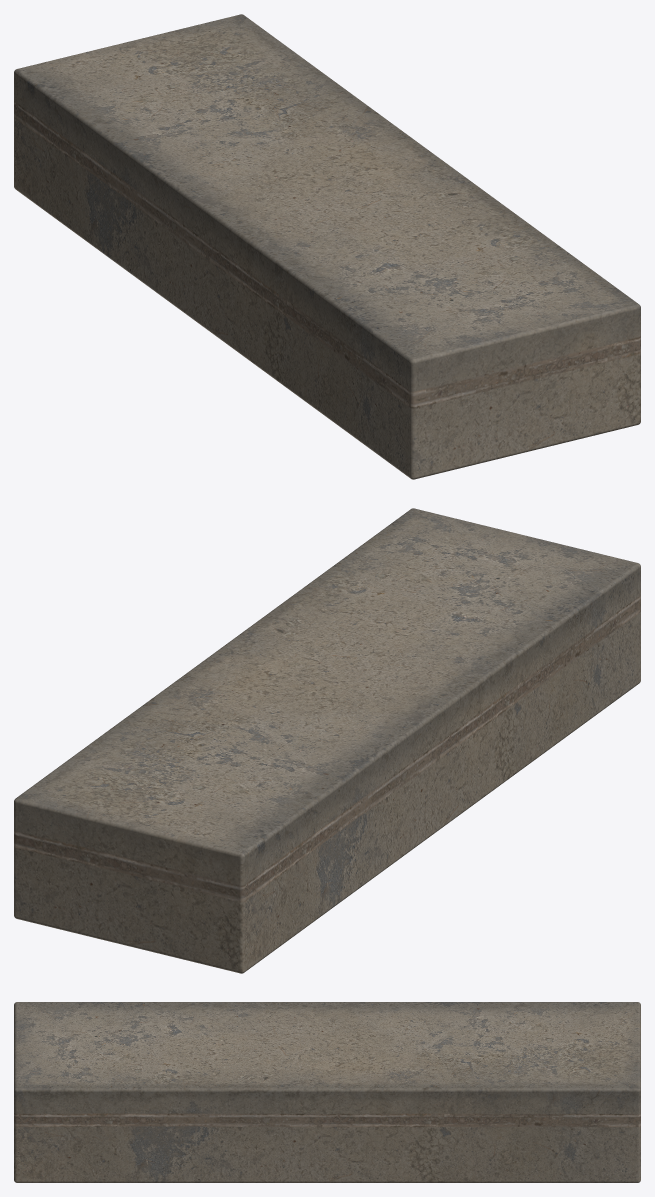
The model's file is worn_concrete_block__game_ready__4k.glb.
3 views of the same model, one above another, from view 1: azimuth 30°, elevation 25°; view 2: azimuth 150°, elevation 25°; view 3: azimuth 270°, elevation 25° (orthographic). The views are drawn at different scales.
Parts seen in each view (by area): view 1: BRALUNIT_CONCRETE_BLOCK; view 2: BRALUNIT_CONCRETE_BLOCK; view 3: BRALUNIT_CONCRETE_BLOCK.
Boxes of the visible parts, x1,y1,x2,y2 form: BRALUNIT_CONCRETE_BLOCK: [14, 14, 640, 479]; BRALUNIT_CONCRETE_BLOCK: [14, 508, 640, 973]; BRALUNIT_CONCRETE_BLOCK: [14, 1002, 640, 1182].
Size of the model in its own units: 2 by 1 by 6.
Materials: 1 (1 with a texture image).
